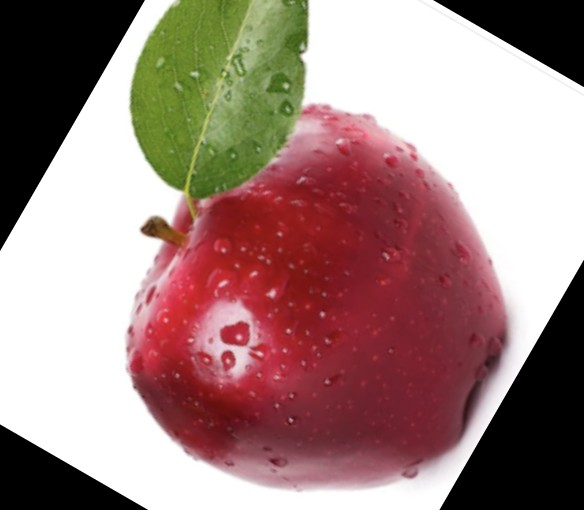fresh_apple: (128, 105, 520, 491)
